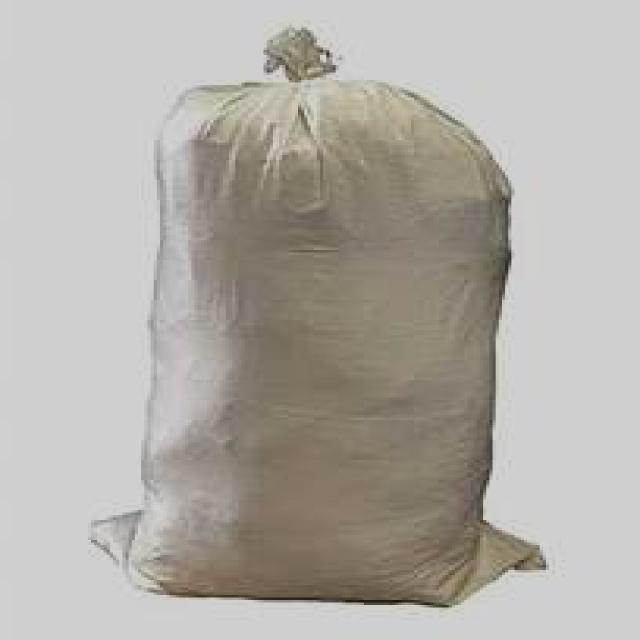gunny_bag: (79, 28, 564, 614)
